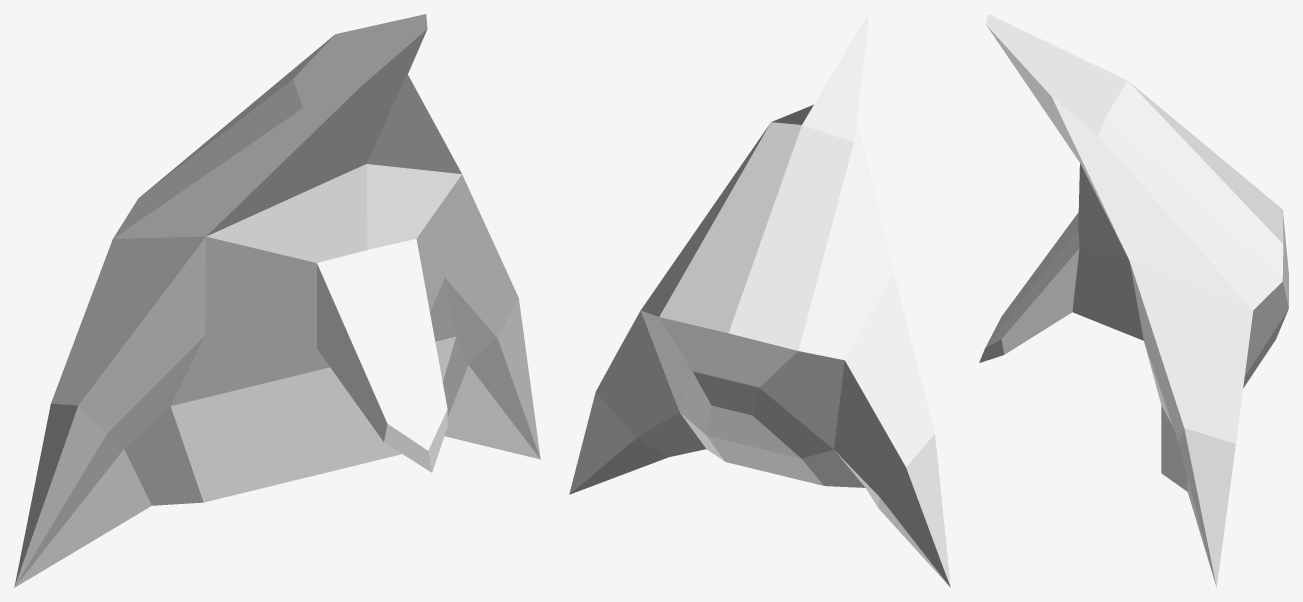
The model's file is head_17.fbx.
3 renders of one model, left to right at view 1: azimuth 30°, elevation 25°; view 2: azimuth 150°, elevation 25°; view 3: azimuth 270°, elevation 25°, orthographic. The views are drawn at different scales.
Visible parts, largest first — view 1: Cube.142; view 2: Cube.142; view 3: Cube.142.
Boxes of the visible parts, bbox=[...] form: Cube.142: bbox=[14, 14, 540, 587]; Cube.142: bbox=[569, 14, 950, 587]; Cube.142: bbox=[979, 14, 1288, 586].
Size of the model in its own units: 54.72 by 61.45 by 36.31.
